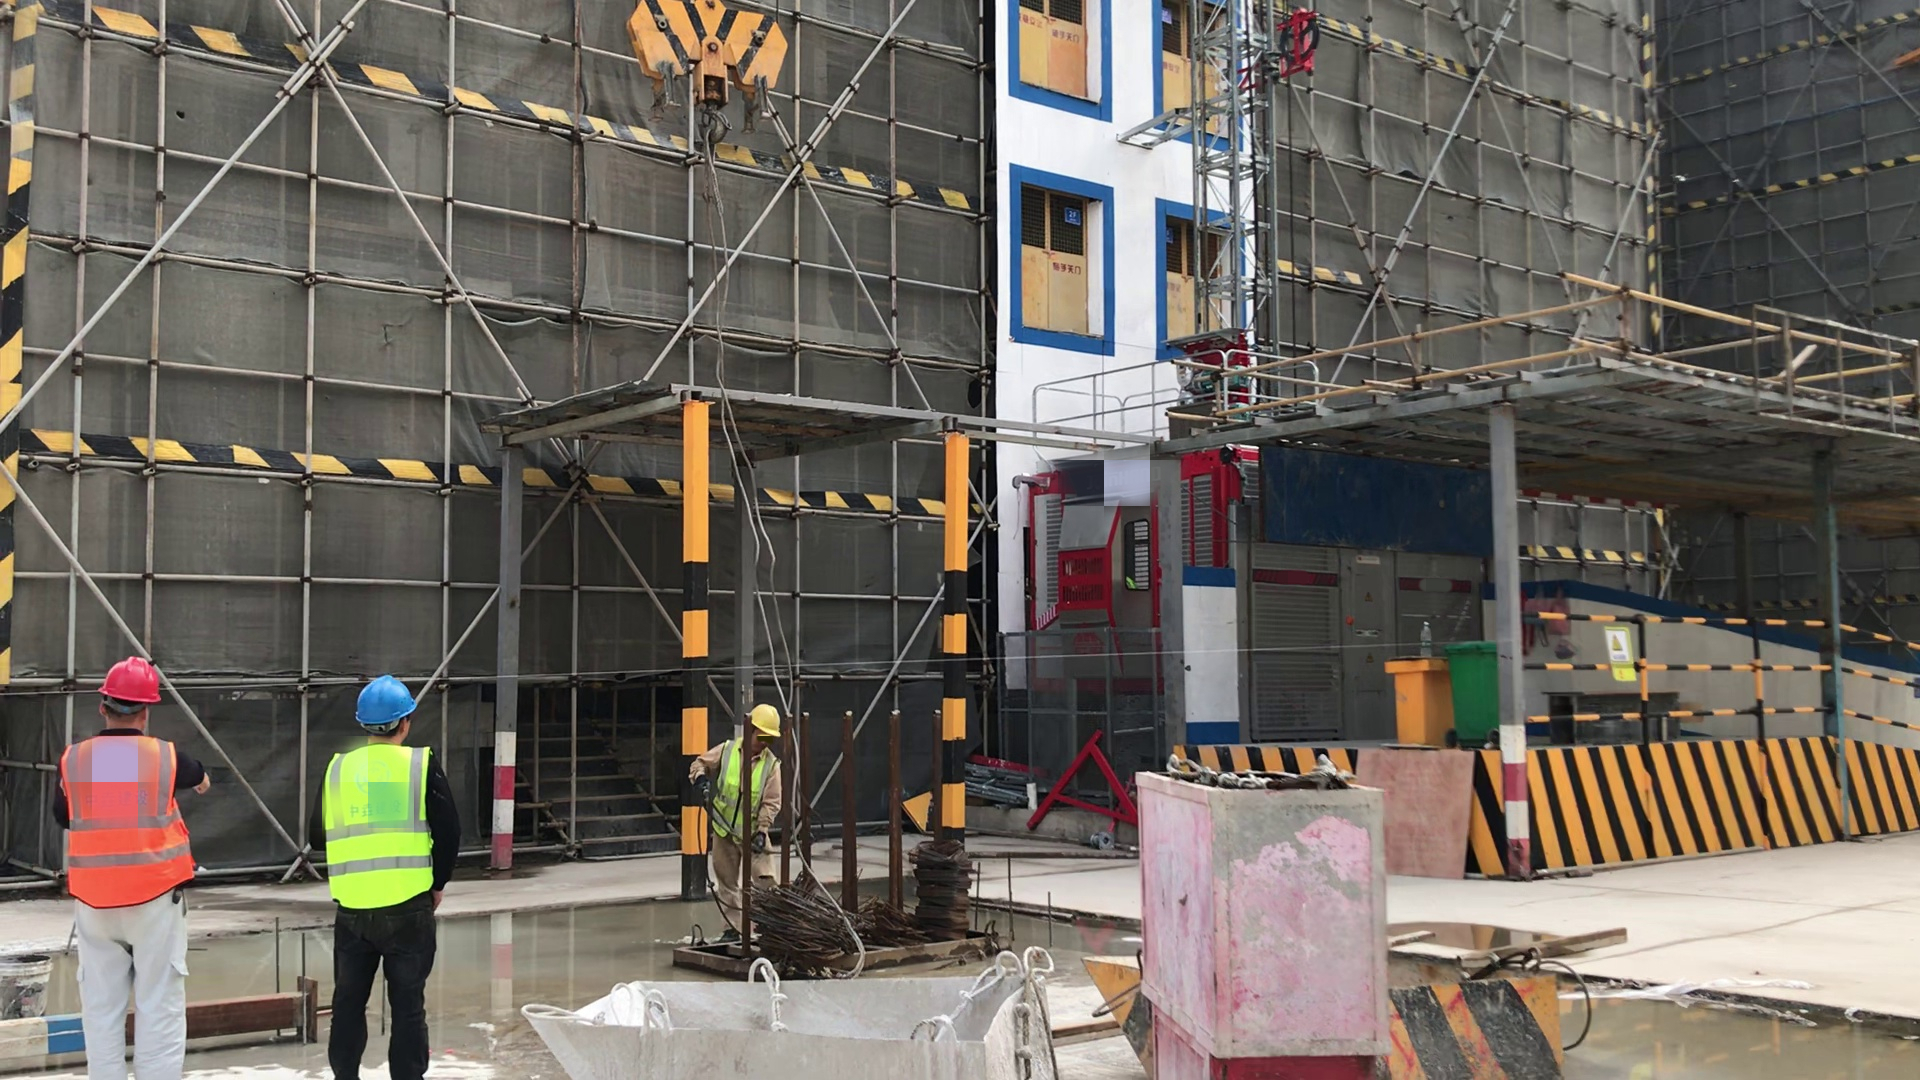helmet: (99, 658, 165, 706), (354, 682, 413, 726), (743, 700, 781, 738)
hook: (622, 1, 791, 146)
hopper: (518, 954, 1049, 1080)
person: (49, 656, 205, 1080), (315, 679, 454, 1080), (685, 698, 795, 945)
slogan: (1602, 624, 1643, 684)
vest: (58, 734, 195, 906), (328, 742, 438, 909), (709, 741, 769, 837)
